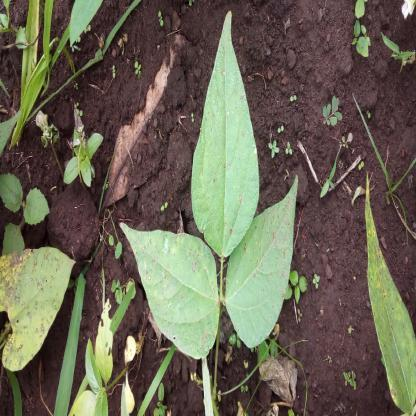Beans_Angular_LeafSpot: (193, 70, 253, 243), (131, 230, 220, 335), (235, 186, 289, 332), (2, 253, 68, 361)
